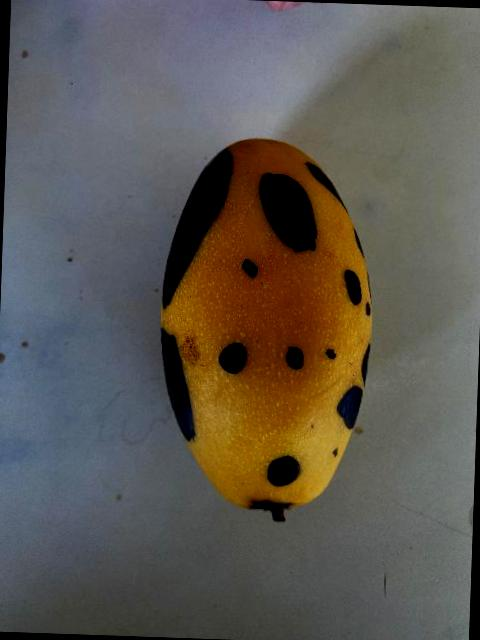Mango Overripe: (123, 103, 374, 534)
